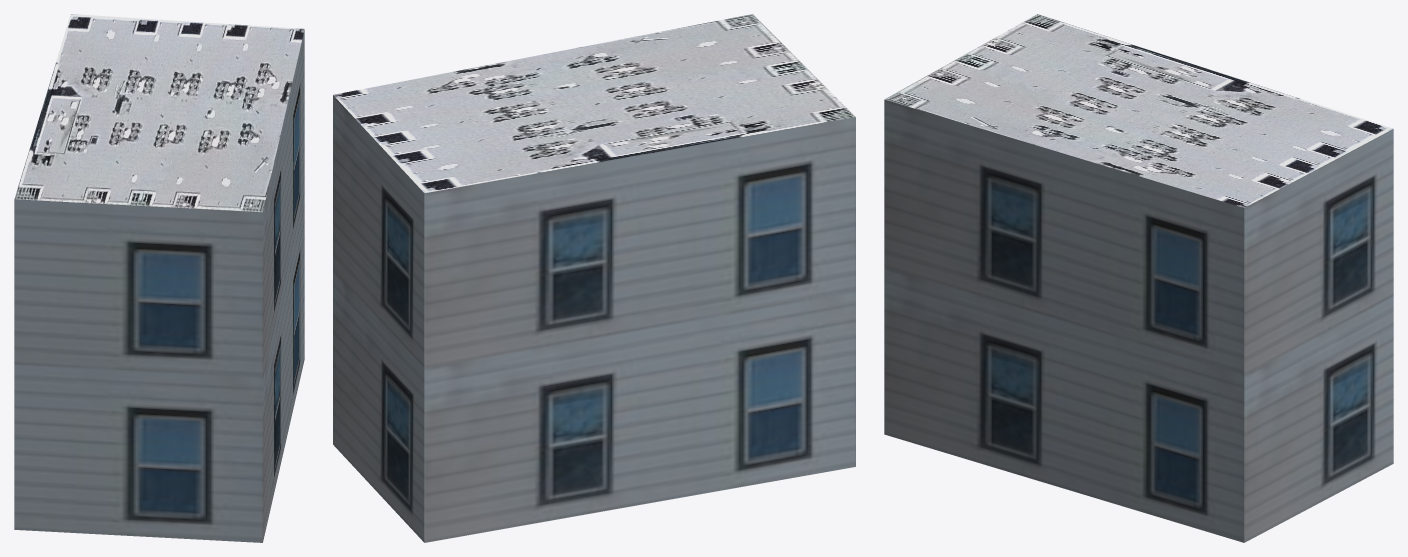
Rendered from ResTex__1117.fbx.
The picture shows the model from 3 angles, left to right: view 1: azimuth 30°, elevation 25°; view 2: azimuth 150°, elevation 25°; view 3: azimuth 270°, elevation 25°; orthographic projection. The views are drawn at different scales.
Parts seen in each view (by area): view 1: CityEngineMaterial_18_m, CityEngineMaterial_m; view 2: CityEngineMaterial_18_m, CityEngineMaterial_m; view 3: CityEngineMaterial_18_m, CityEngineMaterial_m.
Boxes of the visible parts, x1,y1,x2,y2 form: CityEngineMaterial_18_m: (14, 30, 304, 542); CityEngineMaterial_m: (14, 14, 304, 212); CityEngineMaterial_18_m: (333, 95, 855, 542); CityEngineMaterial_m: (333, 14, 855, 193); CityEngineMaterial_18_m: (884, 99, 1393, 542); CityEngineMaterial_m: (884, 14, 1393, 207).
Bounding box in the file's own units: 7.45 × 6 × 8.27.
Materials: 2 (2 with a texture image).
